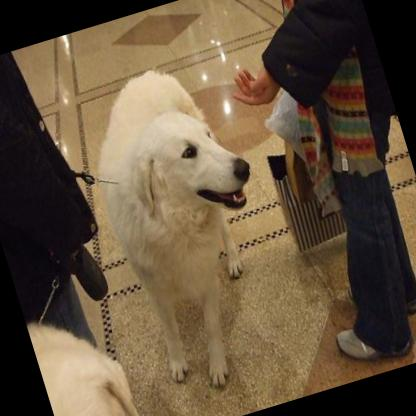kuvasz: (68, 47, 307, 403)
